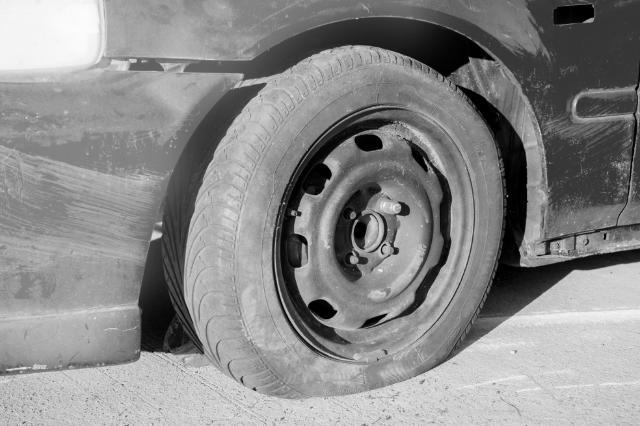Bumper: (0, 65, 248, 375)
